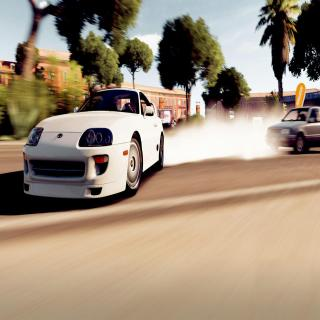Normal_vehicle: (24, 86, 164, 202), (266, 104, 320, 155)
